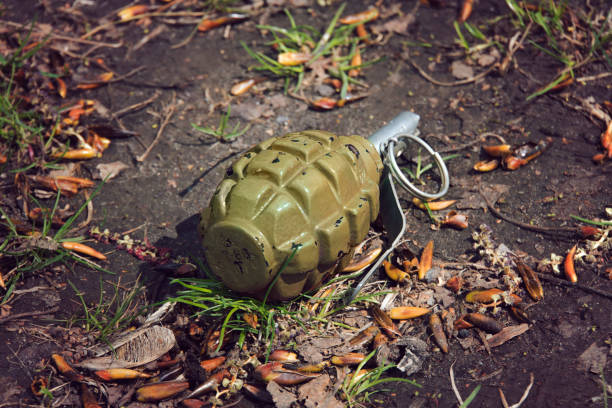e1: (204, 111, 448, 291)
